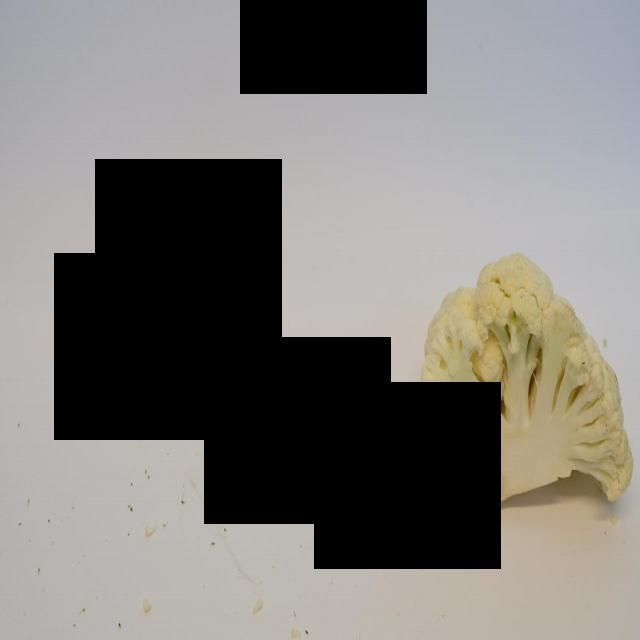cauliflower: (414, 253, 630, 524)
